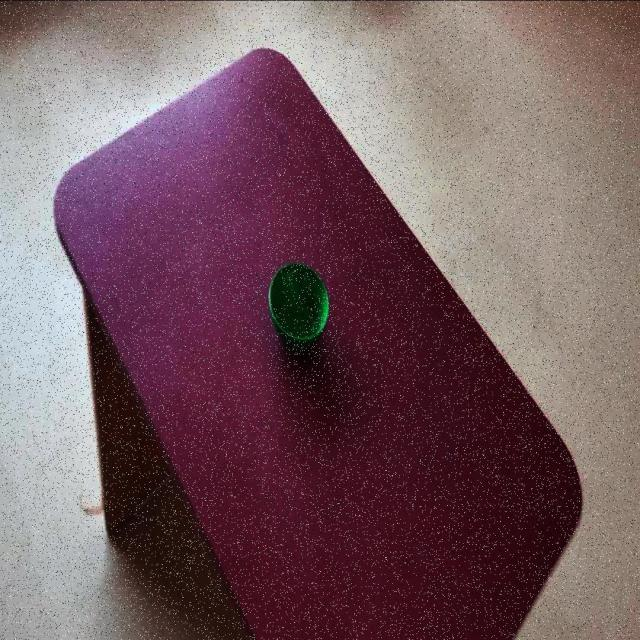Bowl: (51, 47, 581, 640), (268, 262, 330, 351)
